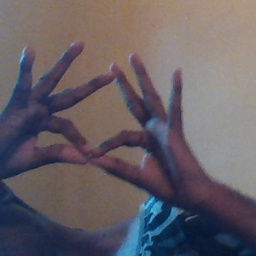B: (18, 93, 160, 200)
